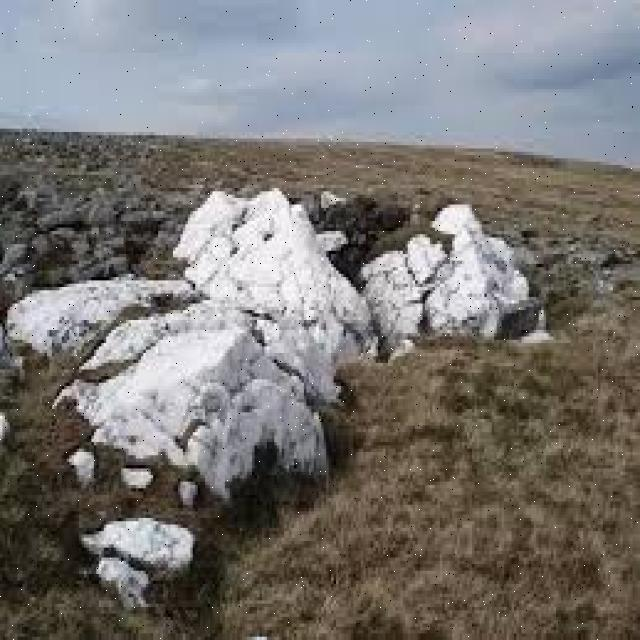Metamorphic: (2, 194, 544, 472)
